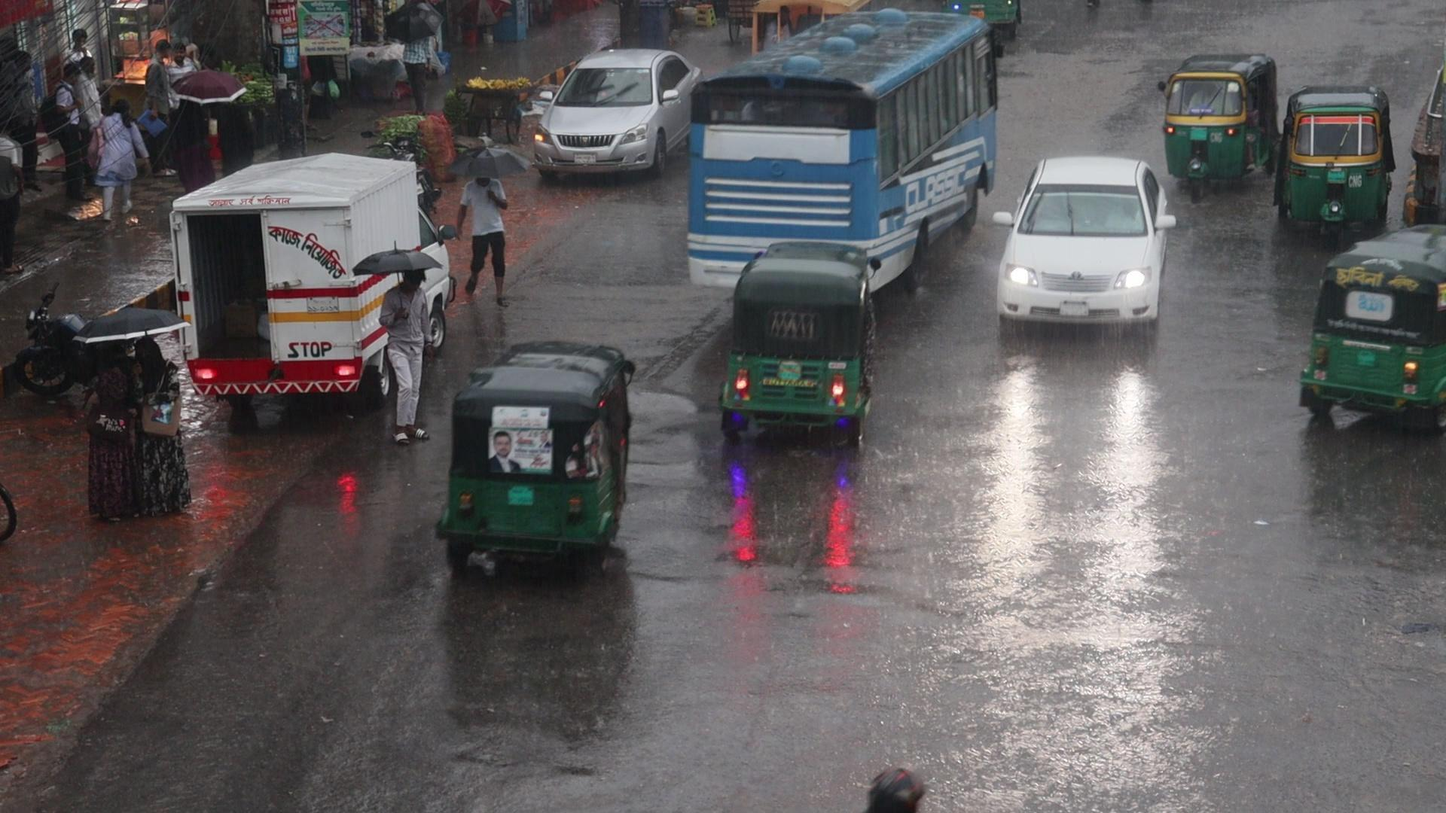Bus: (683, 7, 1003, 250)
Car: (990, 152, 1179, 333), (532, 47, 693, 180)
